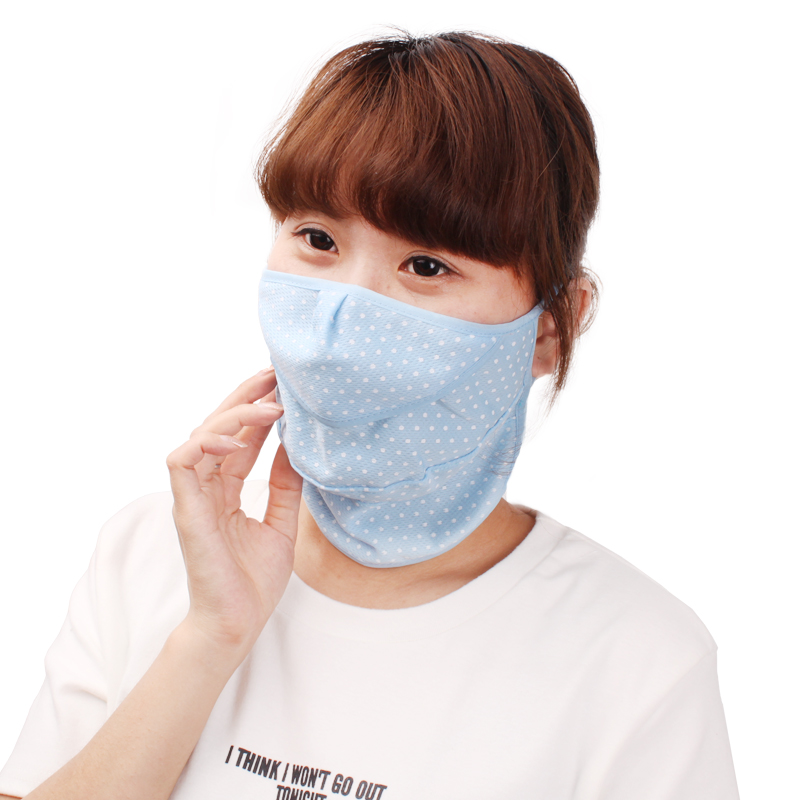face_mask: (256, 116, 529, 497)
